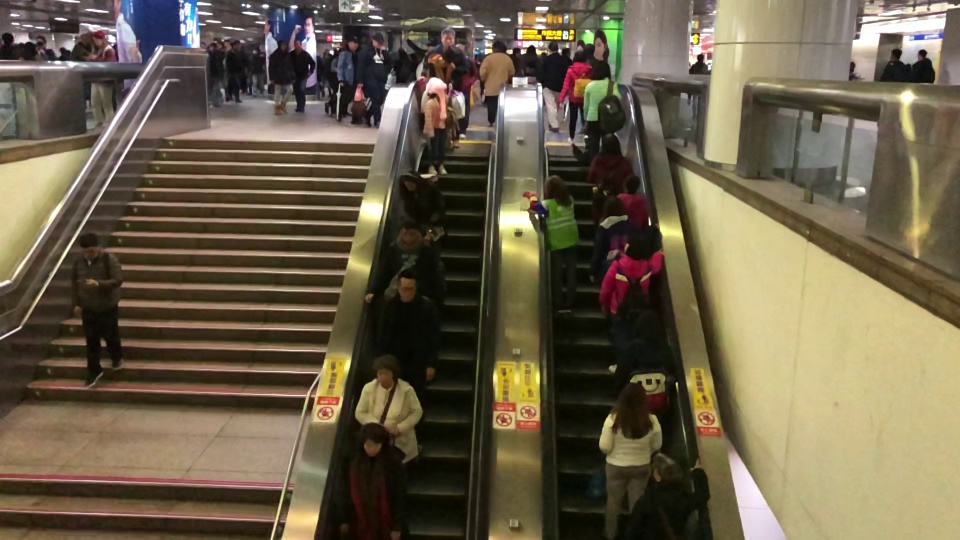person_head: (358, 423, 388, 458), (617, 382, 648, 411), (372, 354, 399, 385), (632, 309, 660, 337), (395, 268, 419, 300), (652, 459, 682, 482), (77, 231, 101, 259), (397, 216, 420, 245), (624, 235, 649, 258), (544, 174, 567, 197), (600, 133, 622, 154), (399, 171, 418, 192), (603, 196, 623, 215), (593, 59, 611, 79), (623, 175, 641, 194), (440, 28, 456, 47), (371, 31, 385, 48), (889, 46, 902, 61), (93, 31, 105, 46), (573, 50, 587, 62), (491, 41, 506, 52), (2, 31, 13, 44), (23, 41, 34, 54), (347, 37, 358, 50), (584, 44, 595, 56), (547, 41, 558, 52), (916, 48, 927, 59), (277, 39, 287, 50), (525, 45, 535, 55), (849, 60, 856, 73), (233, 40, 242, 50), (695, 52, 705, 61), (294, 38, 302, 48), (252, 46, 259, 55)
person_vbox: (597, 382, 663, 540), (598, 235, 668, 374), (70, 231, 125, 388), (335, 423, 408, 540), (522, 173, 579, 317), (353, 354, 422, 463), (363, 216, 444, 304), (380, 269, 440, 385), (630, 457, 710, 540), (614, 309, 678, 410), (588, 195, 659, 283), (399, 171, 448, 246), (587, 133, 634, 208), (582, 59, 626, 136), (357, 31, 390, 130), (559, 51, 593, 146), (479, 40, 514, 127), (419, 28, 470, 85), (86, 31, 116, 126), (539, 40, 566, 131), (421, 85, 448, 174), (290, 38, 317, 115), (268, 38, 294, 115), (336, 37, 358, 122), (616, 175, 649, 225), (225, 40, 245, 103), (688, 52, 707, 117), (878, 46, 908, 81), (911, 48, 936, 83), (519, 45, 540, 82), (251, 47, 265, 98), (1, 31, 18, 59), (20, 41, 41, 61), (848, 59, 864, 81)
